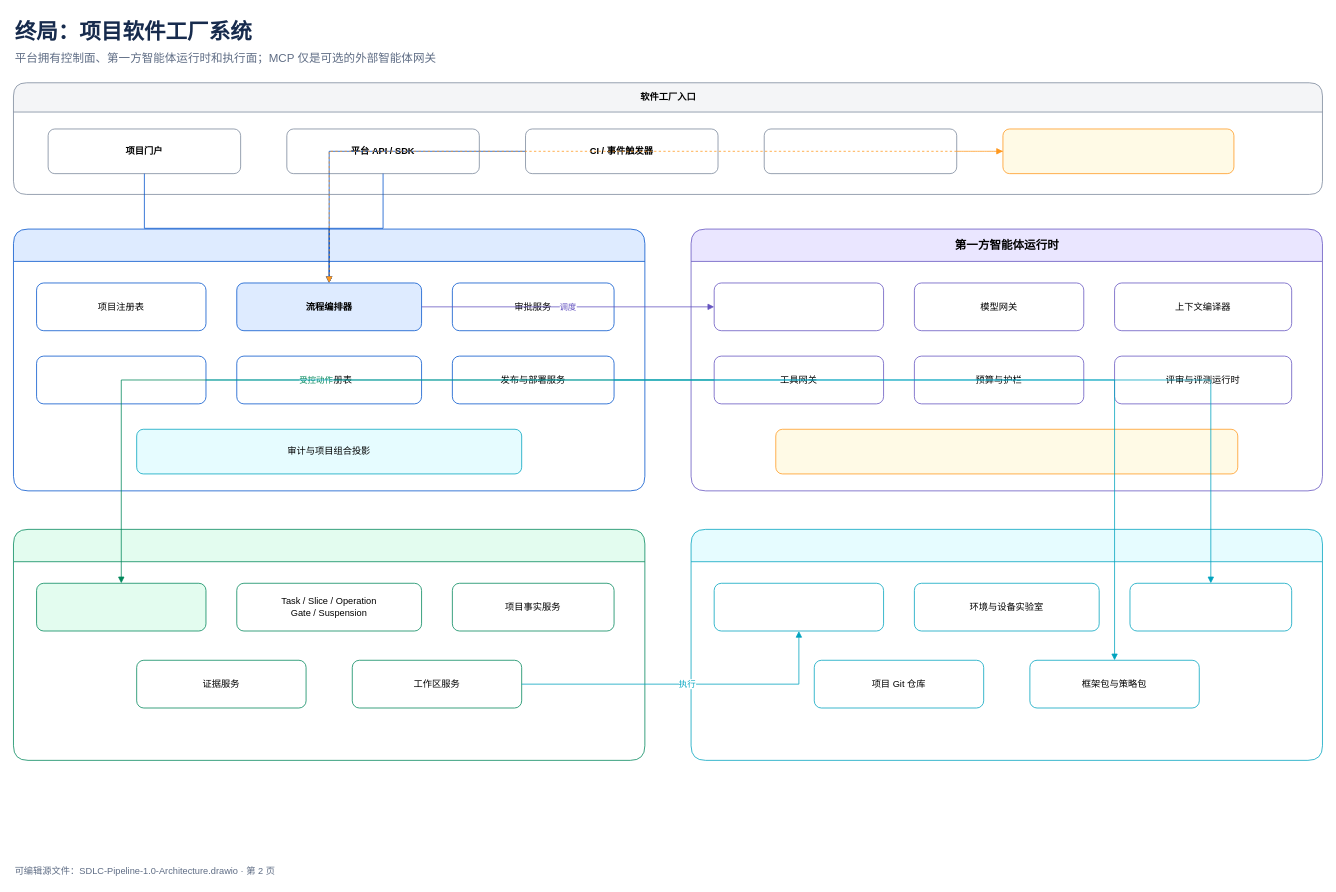
Image size: 1336x892. Some labels were removed from this diagram. Each missing label, with the box of its shape:
SDLC 领域内核: (36, 583, 206, 631)
制品存储: (1129, 583, 1292, 631)
可选 MCP 网关: (1002, 128, 1234, 174)
外部宿主与第一方运行时共享智能体动作契约；宿主会话永远不是业务状态。: (775, 429, 1238, 474)
外部智能体宿主: (763, 128, 957, 174)
执行面: (690, 529, 1322, 760)
智能体调度器: (713, 282, 884, 331)
模板注册表: (36, 355, 206, 404)
软件工厂控制面: (13, 228, 645, 491)
软件工厂领域服务: (13, 529, 645, 760)
隔离执行器池: (713, 583, 884, 631)
